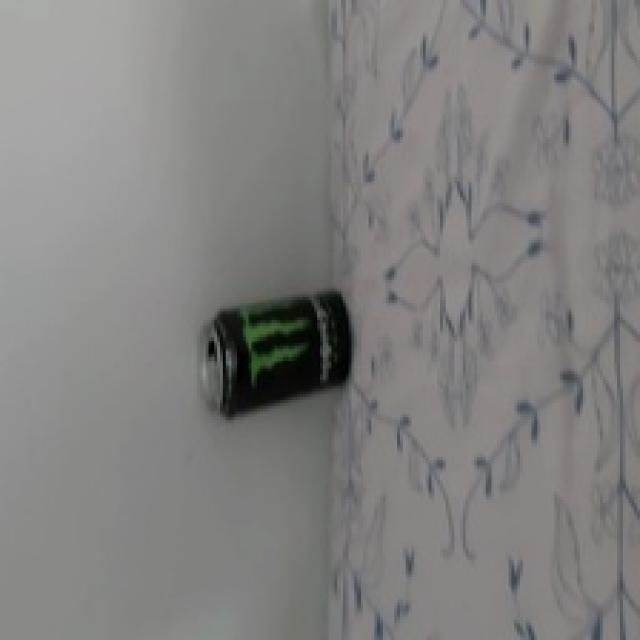recyclable: (198, 288, 354, 420)
